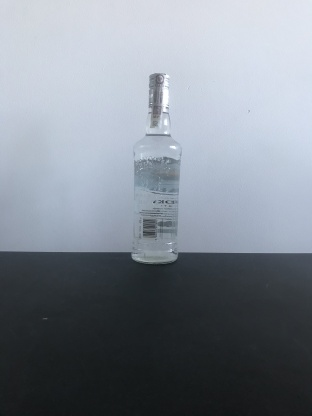nakretka: (146, 69, 172, 111)
